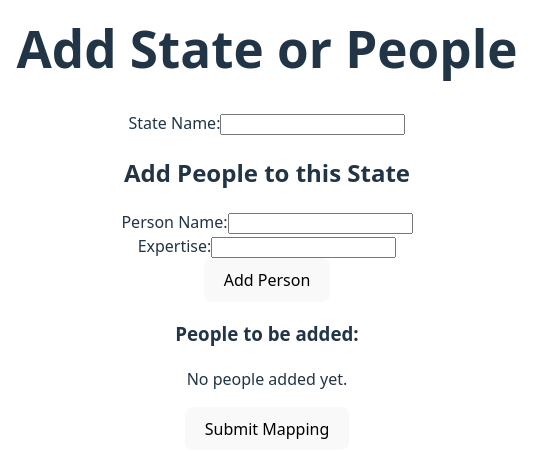
Scenario: Add › adds multiple people to the list
// Add first person
In the field labelled "Person Name:": [320, 224] box [228,213,412,234], type "John Doe"
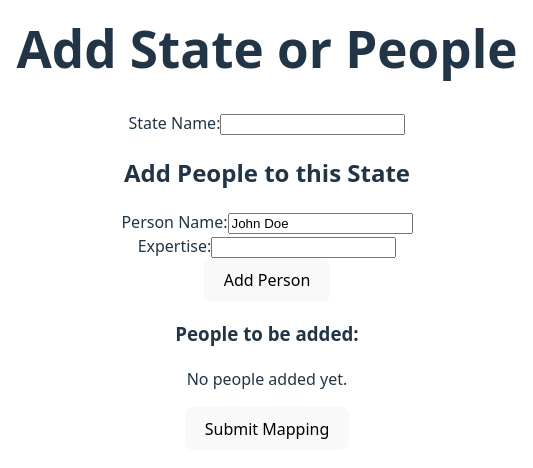
In the field labelled "Expertise:": [304, 248] box [211,237,396,258], type "Frontend"
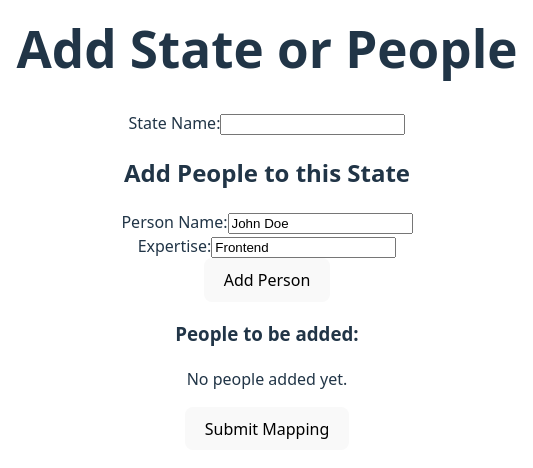
Click the button "Add Person": [267, 280] box [204,258,330,302]
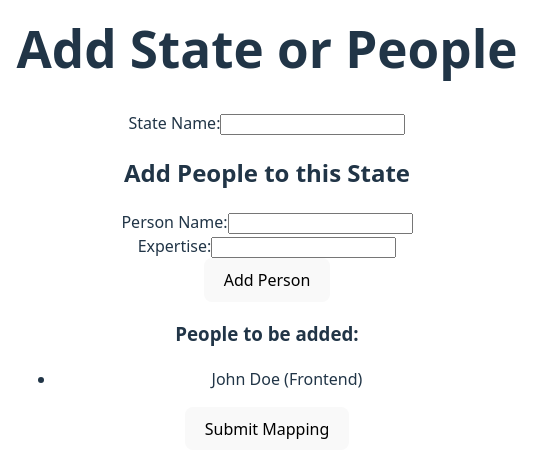
// Add second person
In the field labelled "Person Name:": [320, 224] box [228,213,412,234], type "Jane Smith"
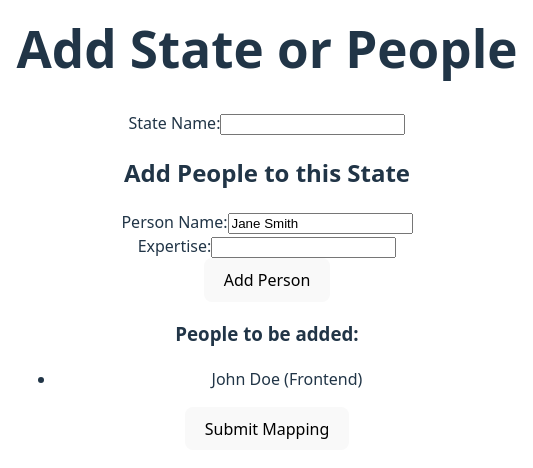
In the field labelled "Expertise:": [304, 248] box [211,237,396,258], type "Backend"
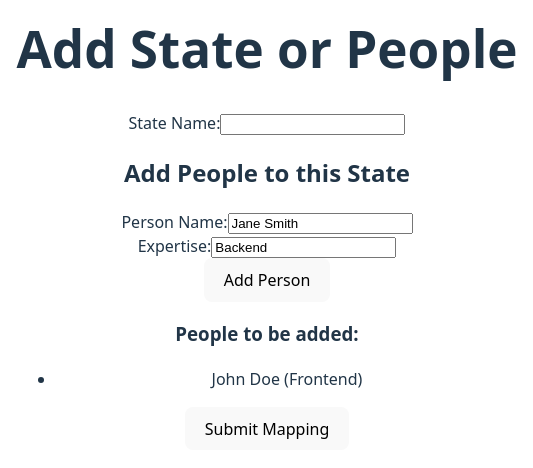
Click the button "Add Person": [267, 280] box [204,258,330,302]
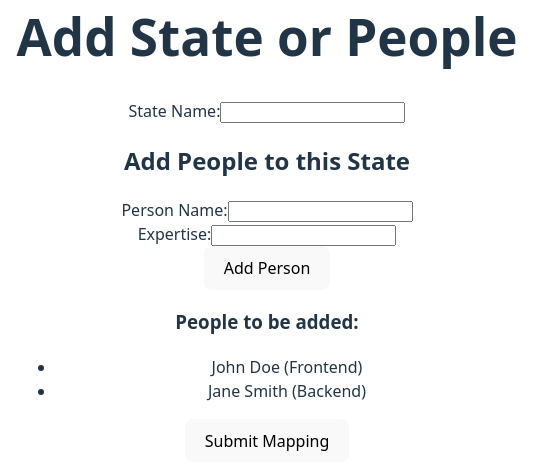
expect the list item "John Doe (Frontend)" is shown: met, box [212,356,362,378]
expect the list item "Jane Smith (Backend)" is shown: met, box [208,380,366,402]
expect the number of list items is 2: met, box [212,356,362,378]; [208,380,366,402]
